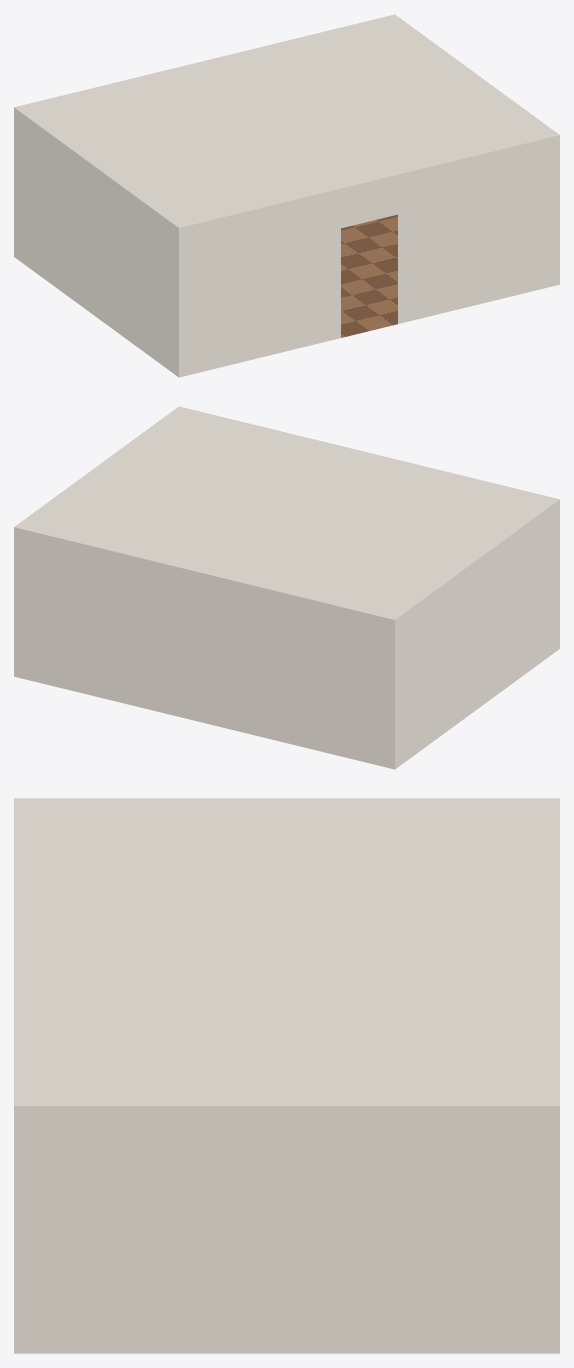
File: sala.glb
The picture shows the model from 3 angles, top to bottom: view 1: azimuth 30°, elevation 25°; view 2: azimuth 150°, elevation 25°; view 3: azimuth 270°, elevation 25°; orthographic projection. The views are drawn at different scales.
Parts seen in each view (by area): view 1: paredes, suelo; view 2: paredes; view 3: paredes.
Boxes of the visible parts, x1,y1,x2,y2 form: paredes: (14, 14, 559, 377); suelo: (341, 214, 397, 337); paredes: (14, 406, 559, 769); paredes: (14, 798, 559, 1353).
Size of the model in its own units: 8 by 3 by 6.
Materials: 5 (2 with a texture image).
